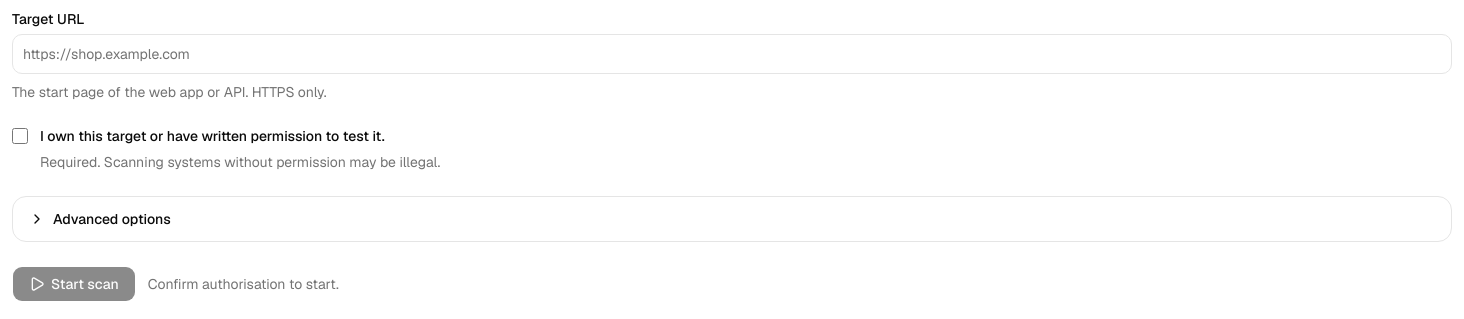
NewScanForm: URL validation › shows a clear error for  and sends nothing
Step 1. Click the checkbox labelled "I own this target or have written permission to test it." → click(20, 136), box [12, 128, 28, 144]
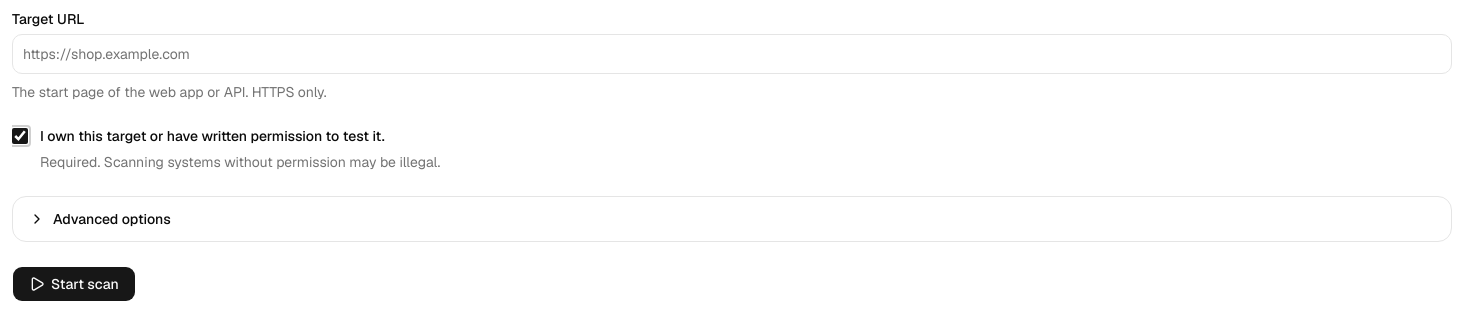
Step 2. Click the button "Start scan" → click(74, 284), box [12, 266, 136, 302]
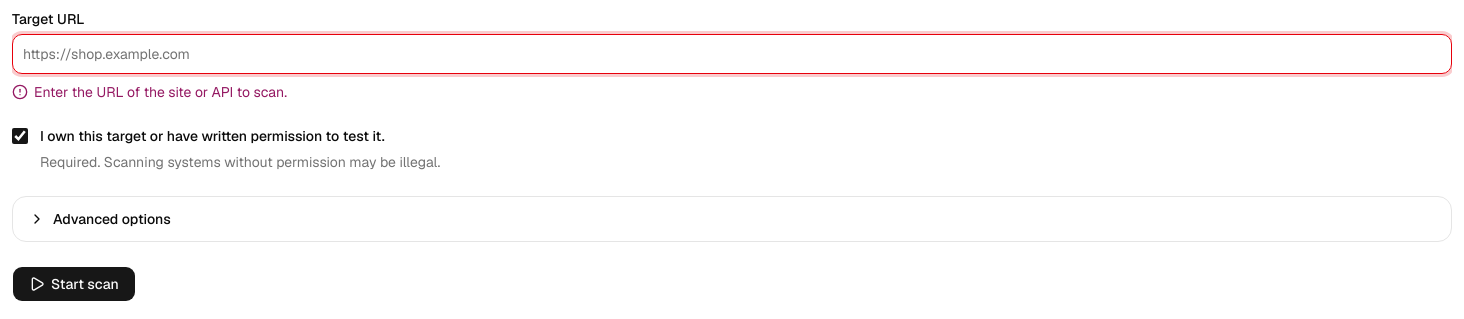
Check: the text "Enter the URL of the site or API to scan." is shown, box [12, 83, 287, 101]
